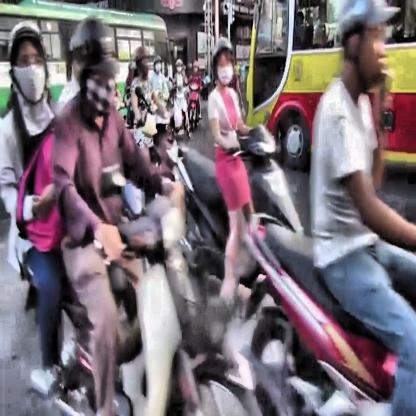wear: (69, 15, 121, 115), (7, 17, 49, 103), (212, 36, 234, 88), (135, 45, 152, 75)
